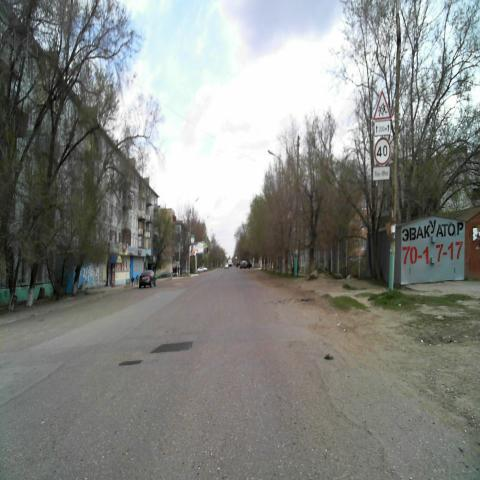8_5_4: (372, 166, 390, 180)
